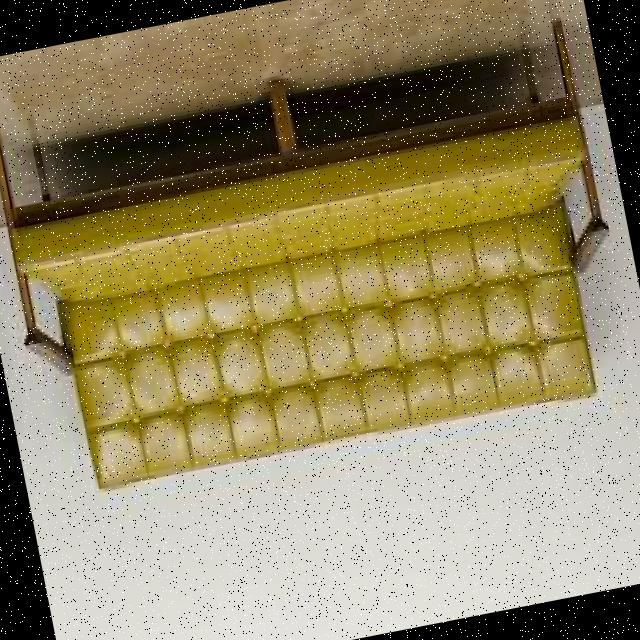Sofa: (0, 0, 640, 531)
